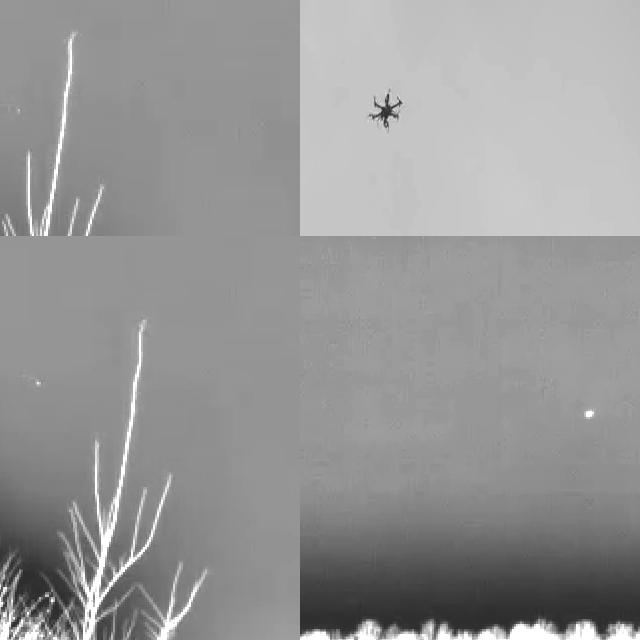0: (27, 373, 55, 403), (6, 100, 32, 126)
1: (580, 404, 606, 432)
drone: (371, 82, 406, 137)
